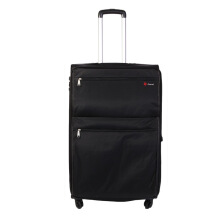luggage: (68, 8, 165, 210)
